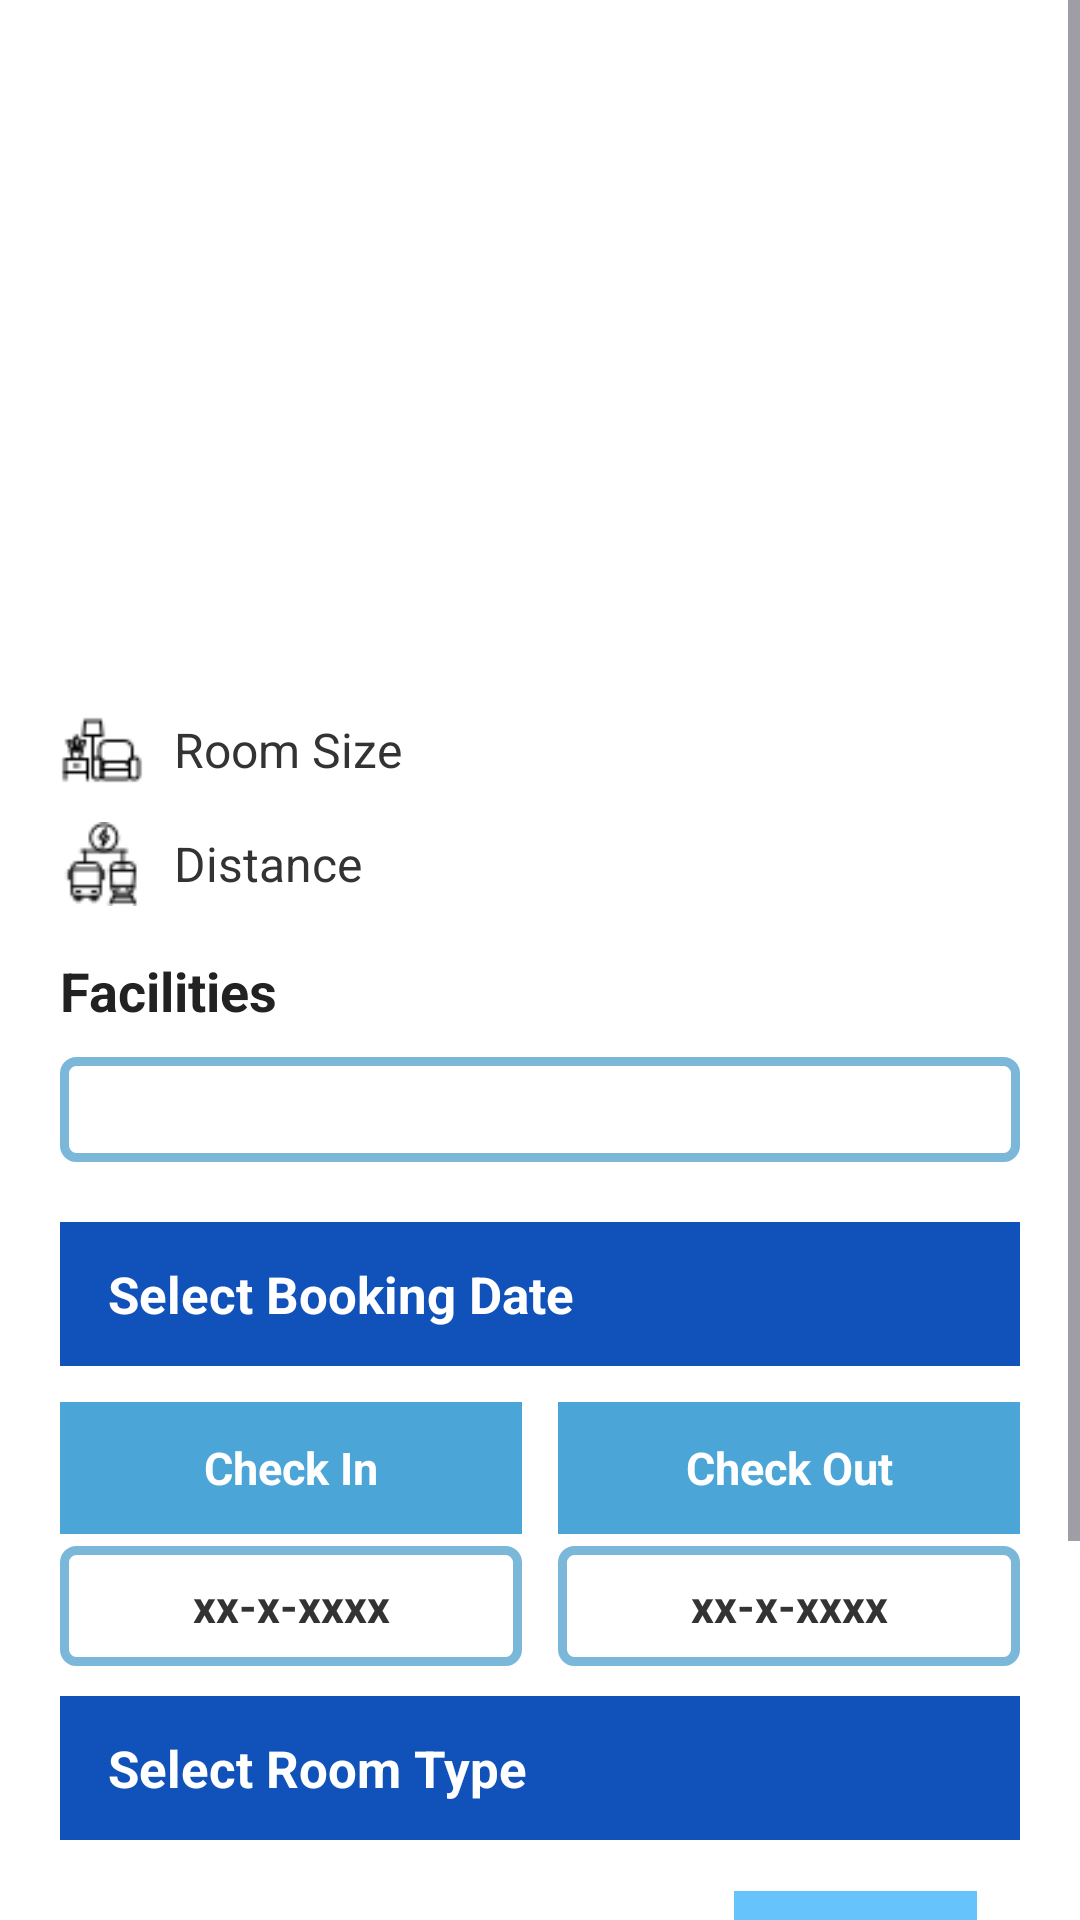

Where to tap for icons on this 1080px x 1920px app screen, as (x,y):
Transportation icon: (101,864)
